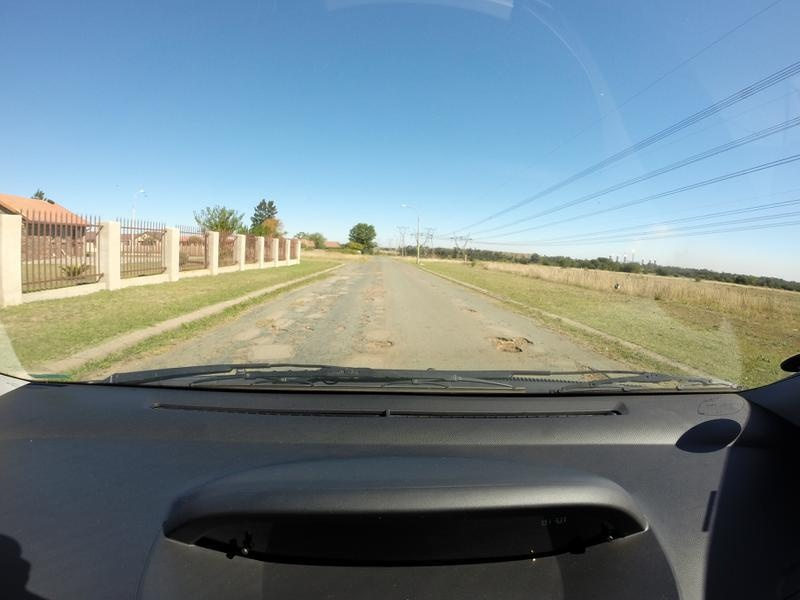pothole: (482, 326, 537, 361), (343, 333, 399, 352), (253, 310, 282, 338), (460, 300, 478, 314), (299, 321, 314, 337), (356, 312, 367, 331), (355, 296, 374, 304), (291, 296, 301, 309)
